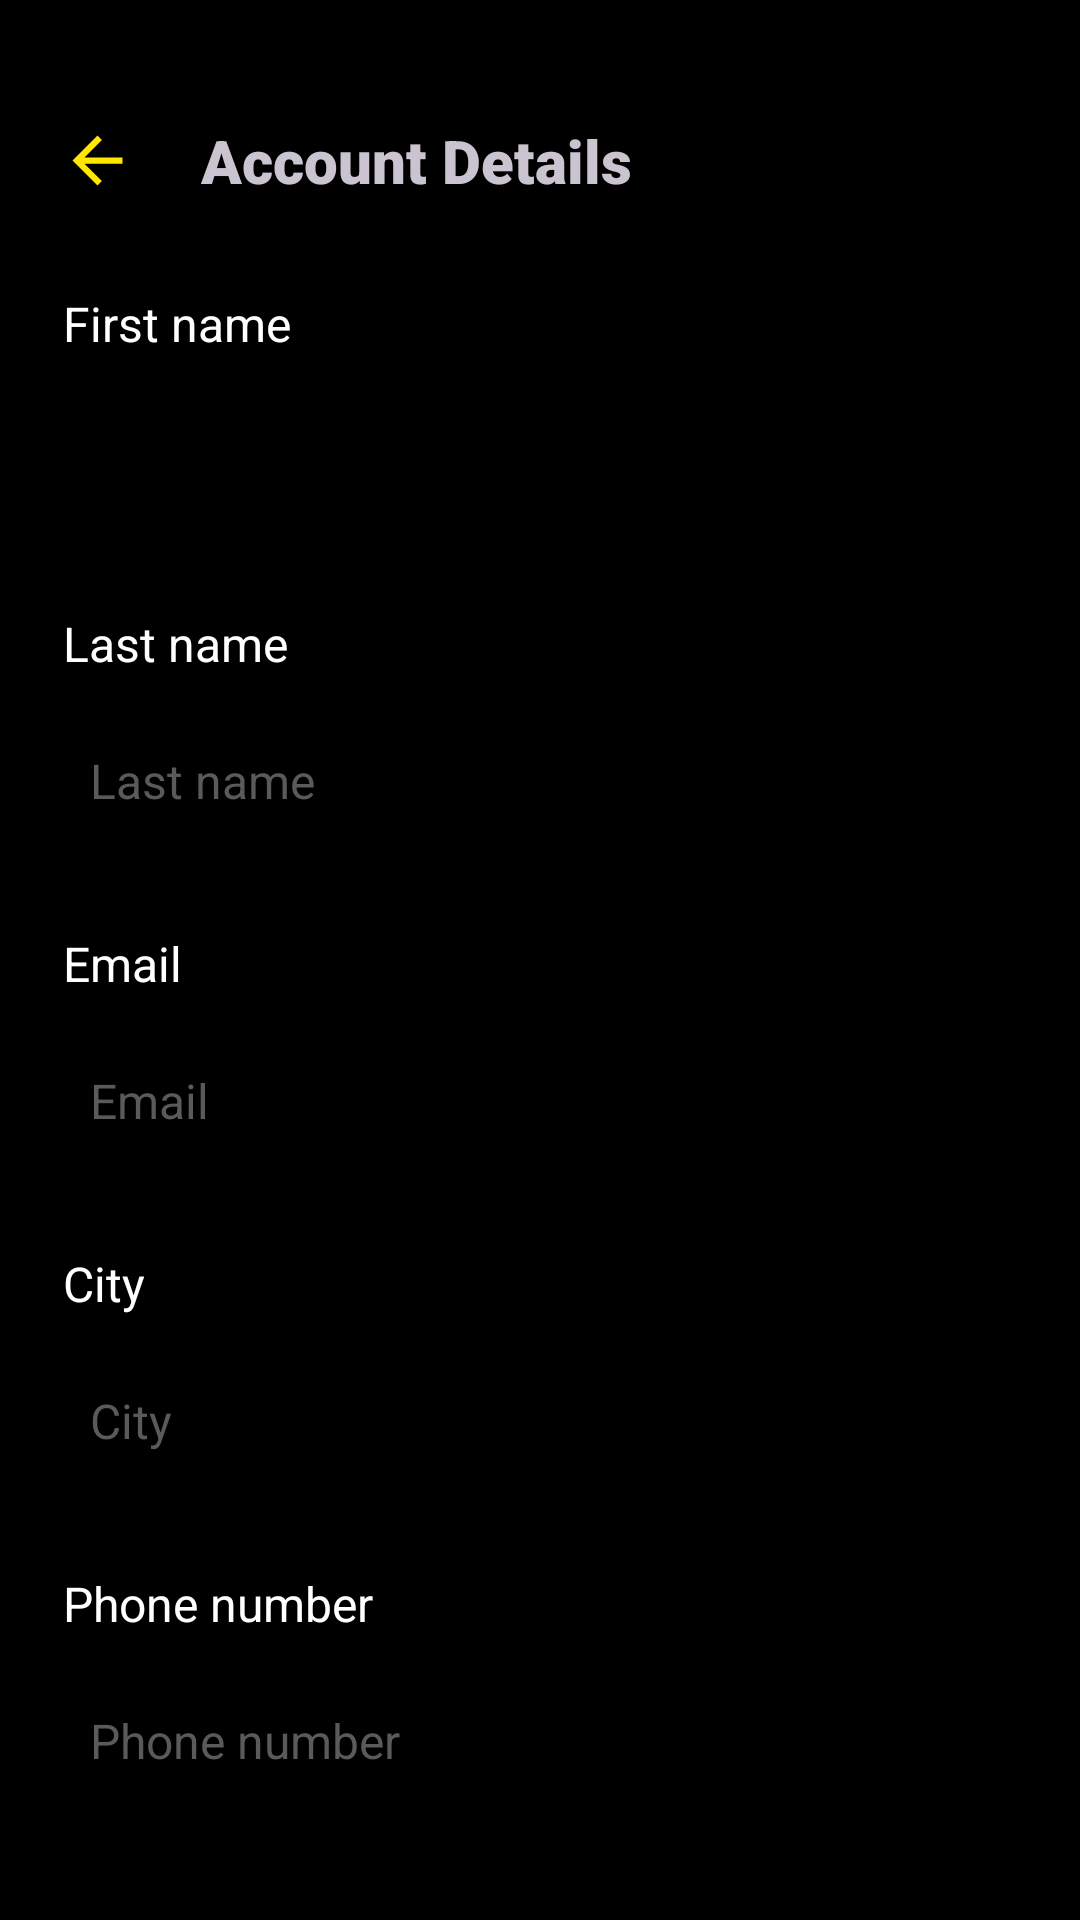

Named icons in this screenshot (1080 x 1920) and their centers, point (x, y):
back out: point (97, 160)
